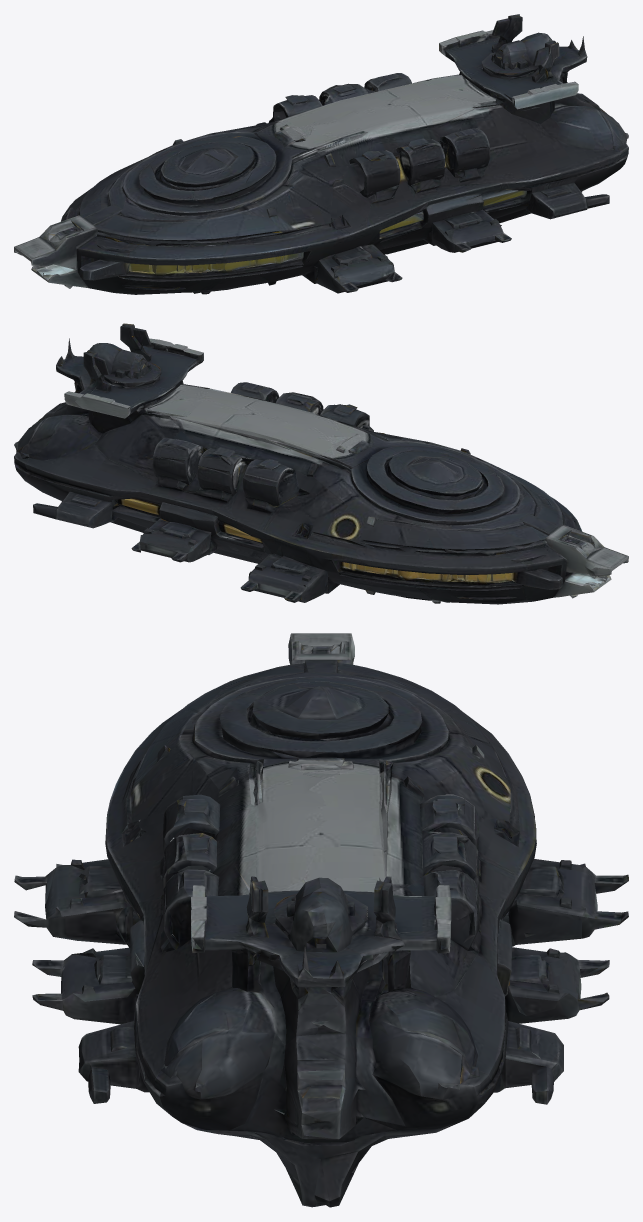
File: enemy-jupiter-capital.glb
The picture shows the model from 3 angles, top to bottom: view 1: azimuth 30°, elevation 25°; view 2: azimuth 150°, elevation 25°; view 3: azimuth 270°, elevation 25°; orthographic projection. The views are drawn at different scales.
Bounding box in the file's own units: 1.9 × 0.5482 × 1.03.
1 material, 1 textured.
